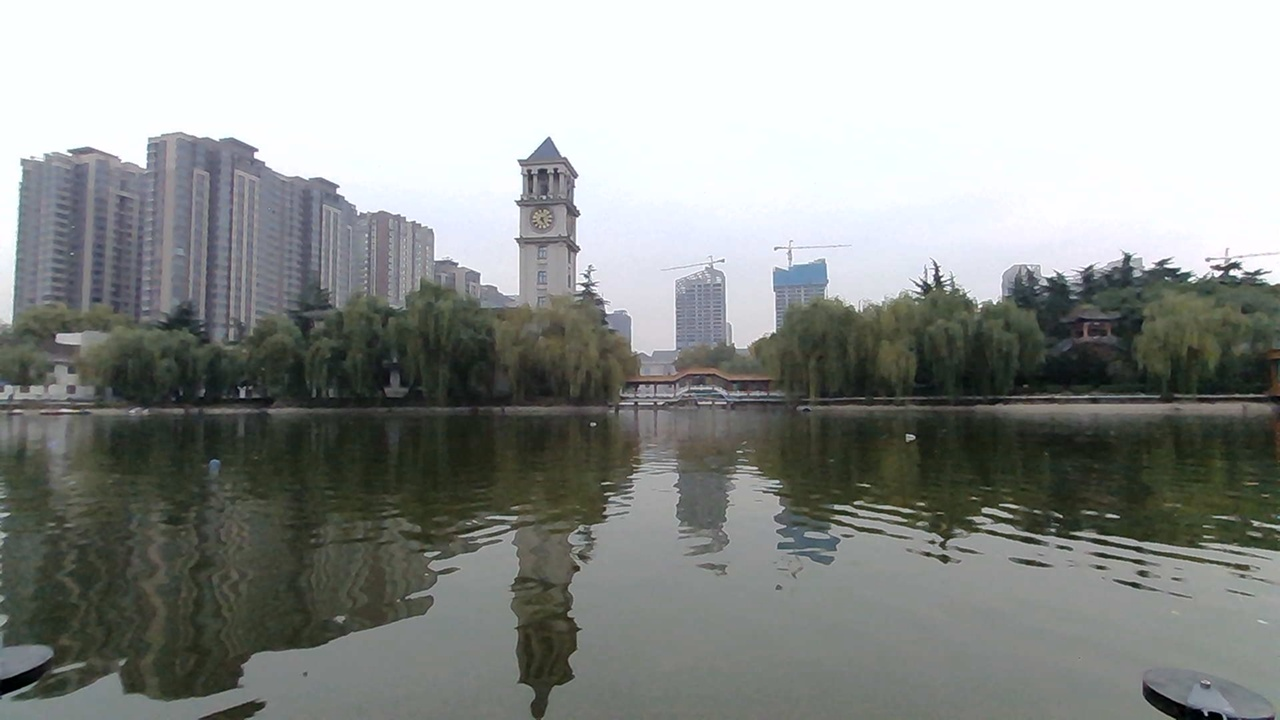bottle: (43, 423, 76, 455), (202, 453, 239, 481), (891, 424, 923, 453)
